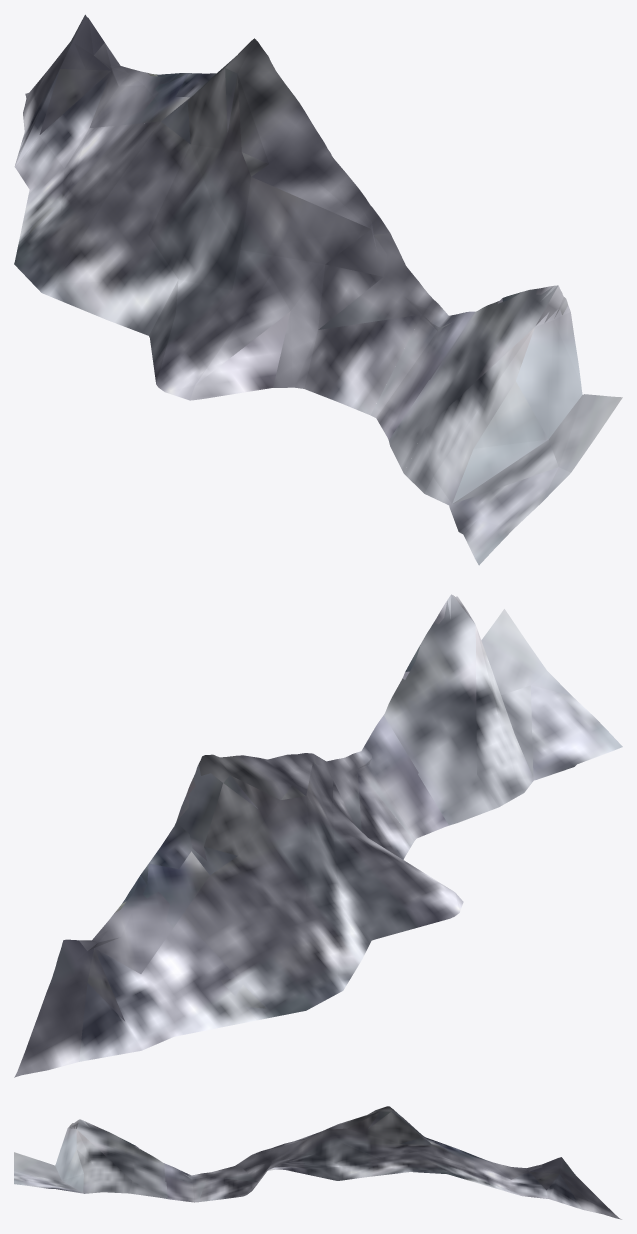
Rendered from Tile_+008_+006_L19_00730.glb.
3 renders of one model, top to bottom at view 1: azimuth 30°, elevation 25°; view 2: azimuth 150°, elevation 25°; view 3: azimuth 270°, elevation 25°, orthographic. The views are drawn at different scales.
Parts seen in each view (by area): view 1: rtc; view 2: rtc; view 3: rtc.
Boxes of the visible parts, x1,y1,x2,y2 form: rtc: (14,14,622,565); rtc: (14,594,622,1077); rtc: (14,1106,621,1219).
Size of the model in its own units: 3.26 by 3.43 by 16.64.
1 material, 1 textured.
